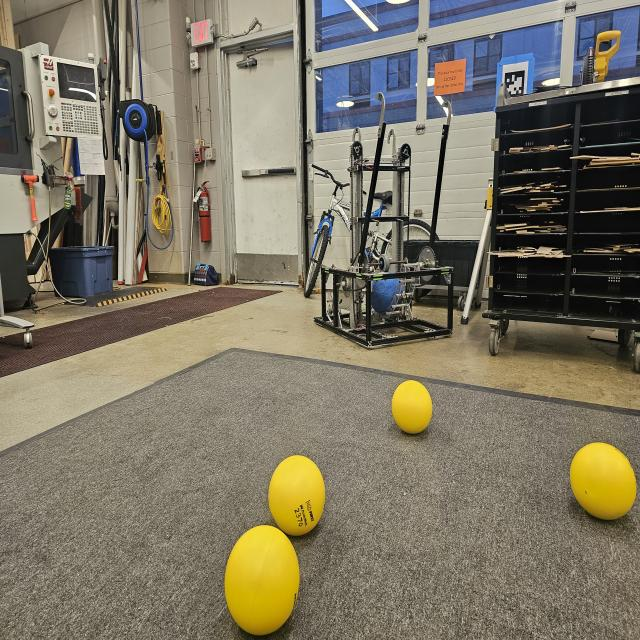Fuel: (225, 525, 300, 635), (571, 443, 637, 520), (269, 457, 326, 533), (390, 379, 432, 434)
